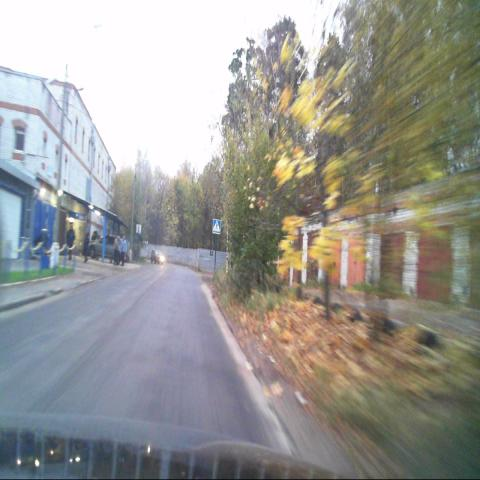5_19_1: (212, 219, 221, 234)
